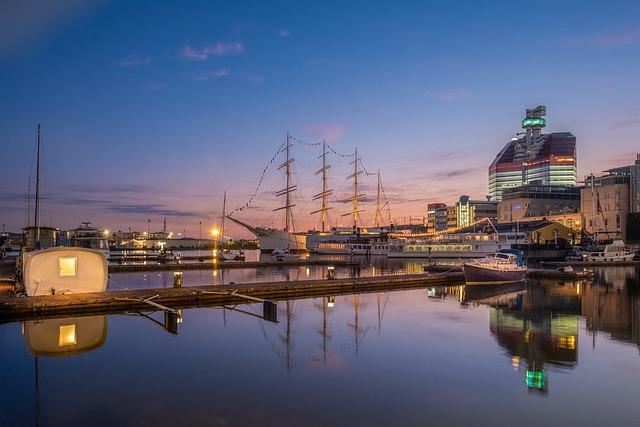Ship: (306, 230, 517, 259), (464, 250, 527, 285)
